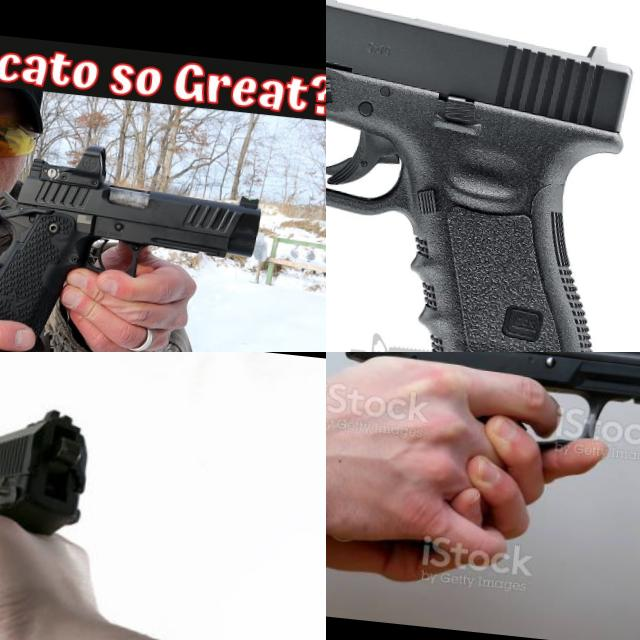handgun: (326, 0, 640, 352), (0, 130, 269, 352), (332, 352, 640, 475), (0, 390, 97, 545)
